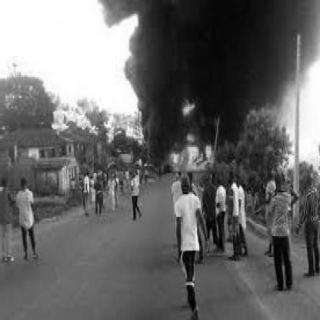Fire: (159, 88, 221, 174)
